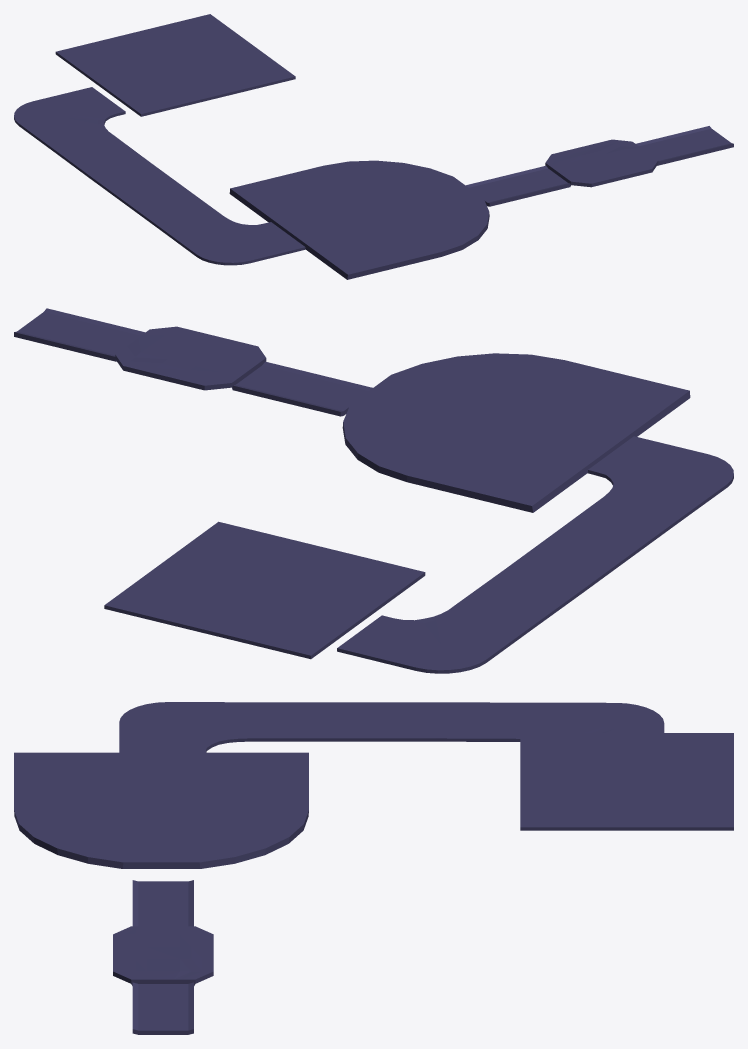
The model's file is Connected-Ceiling.fbx.
The picture shows the model from 3 angles, top to bottom: view 1: azimuth 30°, elevation 25°; view 2: azimuth 150°, elevation 25°; view 3: azimuth 270°, elevation 25°; orthographic projection. The views are drawn at different scales.
Parts seen in each view (by area): view 1: ceiling; view 2: ceiling; view 3: ceiling.
Boxes of the visible parts, left/top/right/bottom form: ceiling: left=14, top=14, right=733, bottom=279; ceiling: left=14, top=308, right=733, bottom=673; ceiling: left=14, top=702, right=733, bottom=1034.
Size of the model in its own units: 4224 by 213 by 4026.
